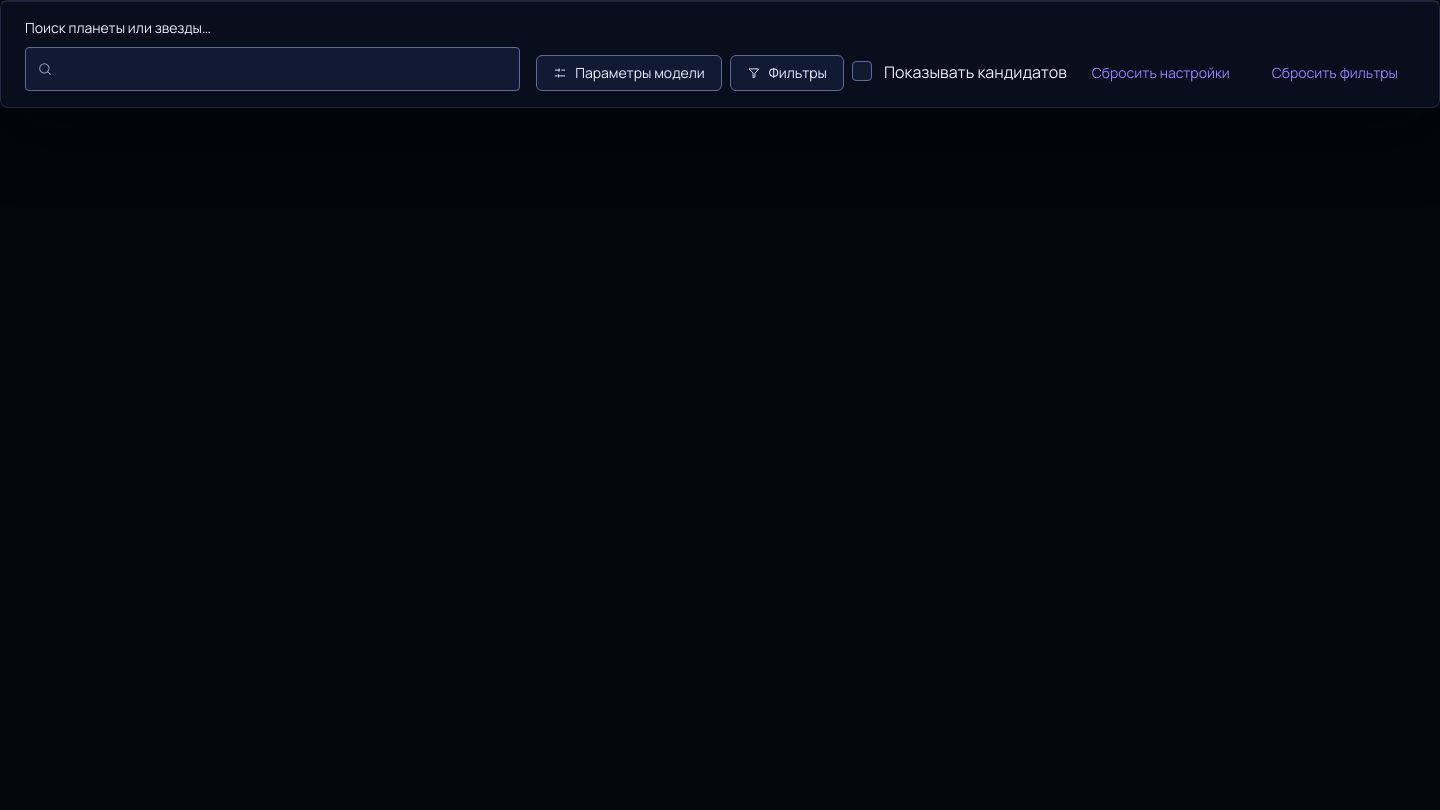
Test: «Земля (эталон)» › при консервативных границах показывает 0.25 и пояснение про 0.74
The image size is (1440, 810).
What coordinates should you click on to do the following:
click the button "Фильтры"
I would click on:
 (787, 73)
Its box is [730, 55, 844, 91].
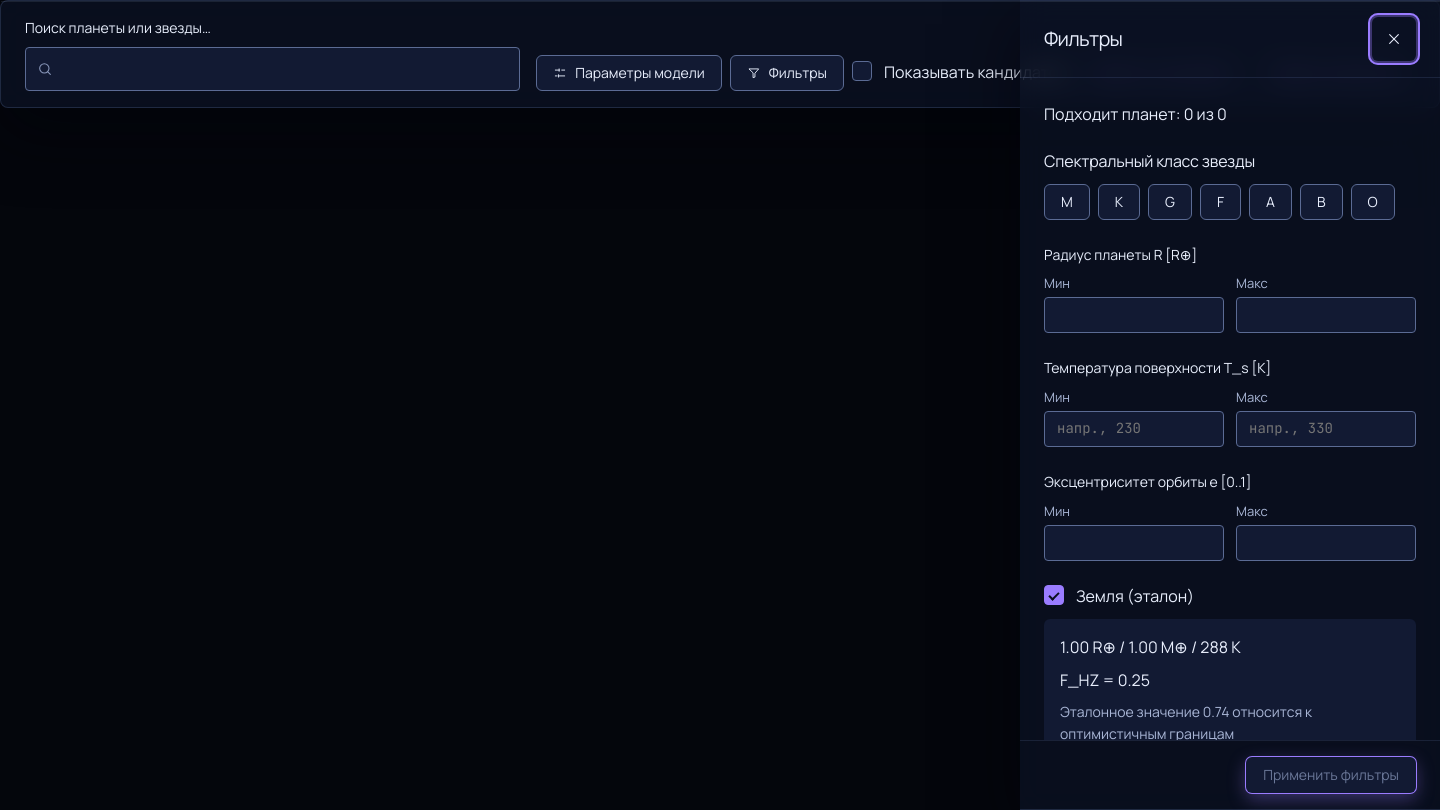
Check: the text "Эталонное значение 0.74 относится к оптимистичным границам" is shown, box [1060, 702, 1312, 740]
Check: the text "1.00 R⊕ / 1.00 M⊕ / 288 K" is shown, box [1060, 636, 1241, 658]
